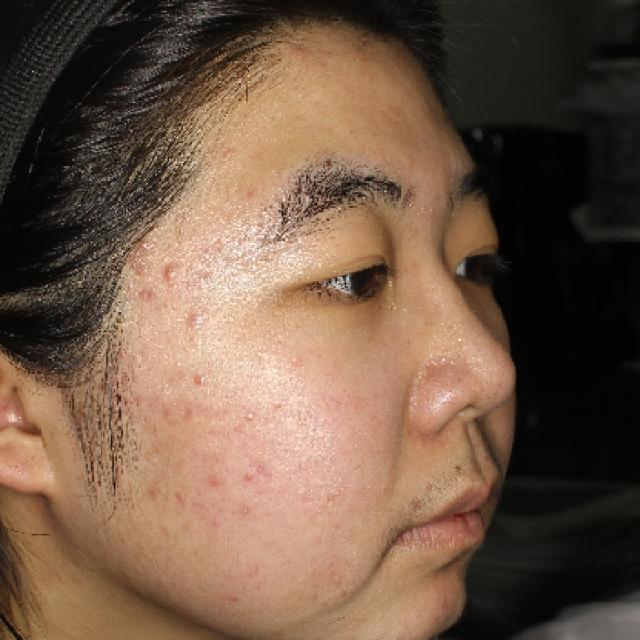Acne: (150, 254, 188, 295), (180, 306, 209, 332), (188, 366, 214, 391)
Whiteheads: (238, 406, 268, 426)
